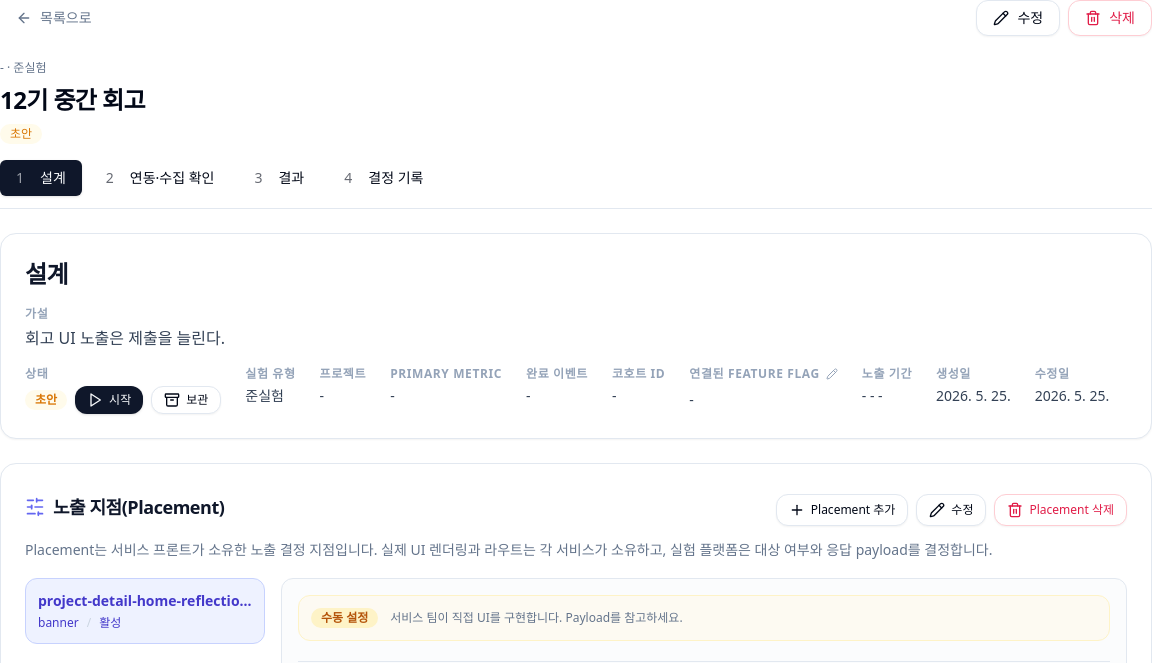
Scenario: ExperimentDetail placements › explains the missing primary metric before submitting a start request
Click the button "시작" at x=109, y=400, box [75,386,143,414]
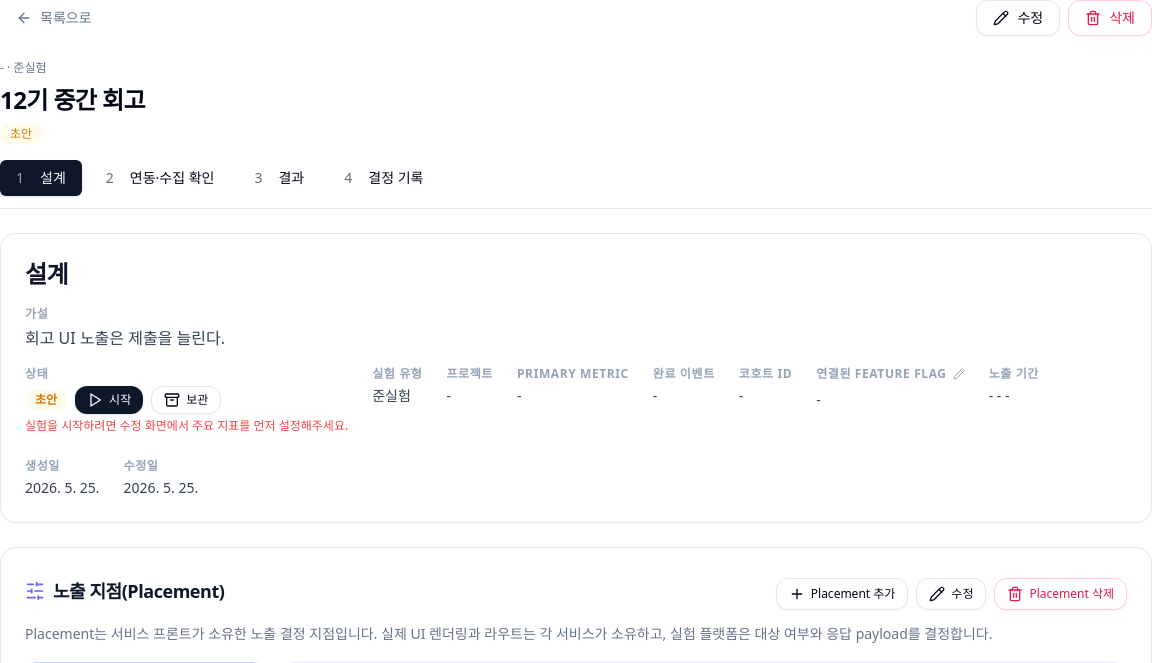
expect the message shows "주요 지표를 먼저 설정": met, box [25,417,348,434]
